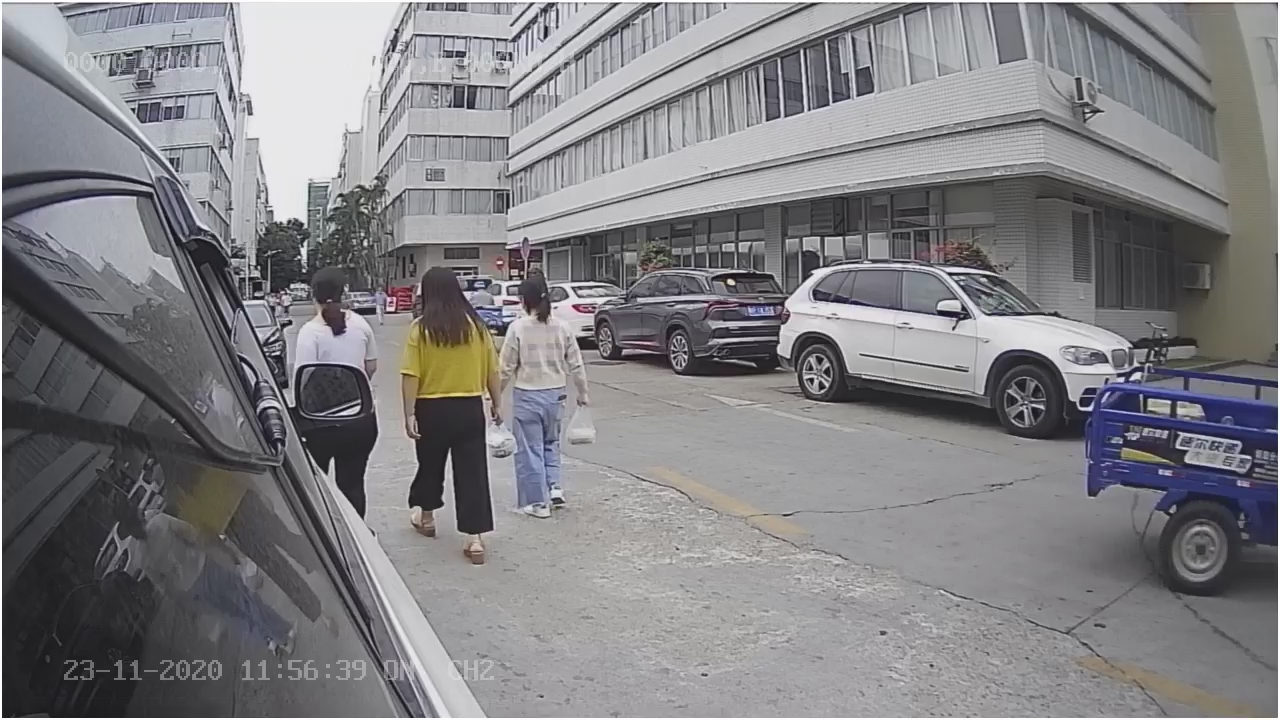person: (389, 260, 513, 565), (499, 273, 600, 523), (291, 267, 381, 360)
